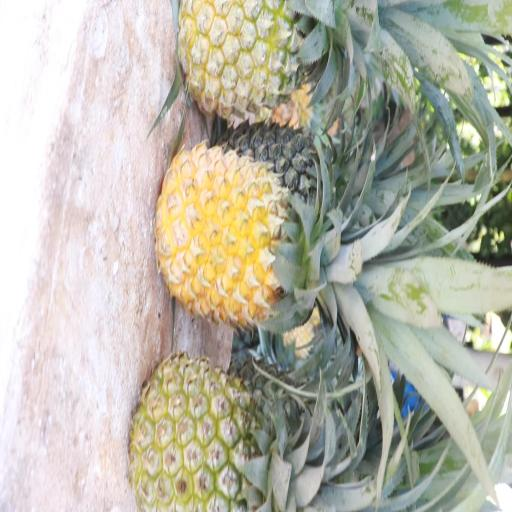------------------------------: (134, 355, 304, 509), (180, 0, 342, 124)
Pineapple - v8 v1: (162, 144, 344, 316)
